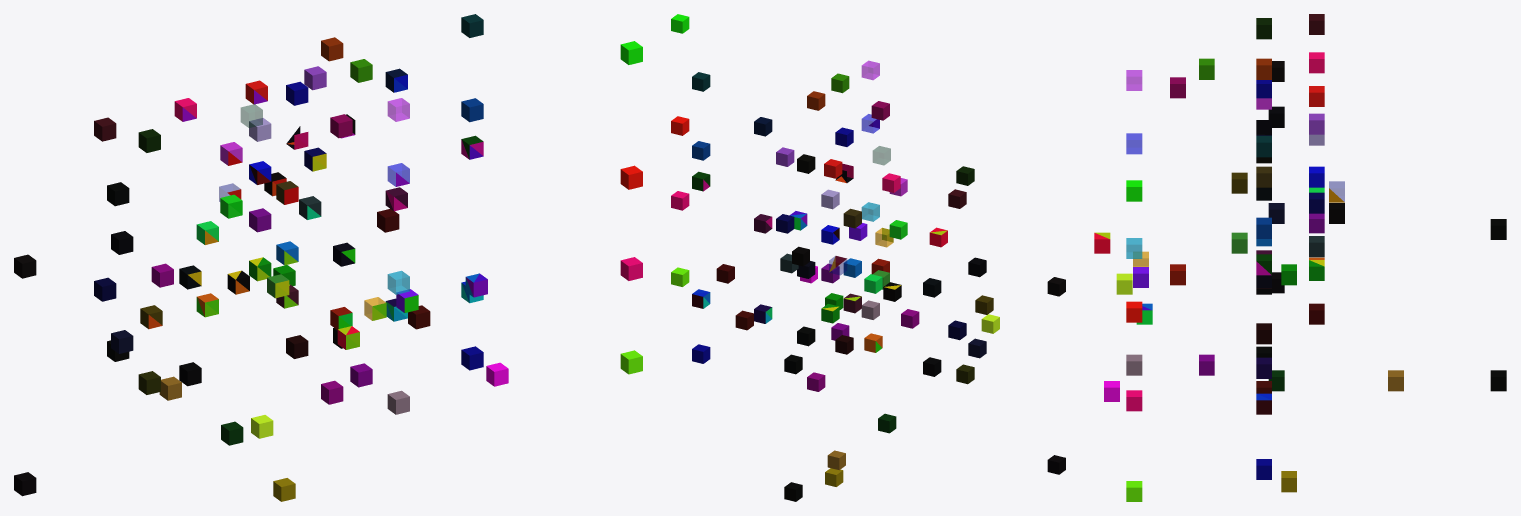
File: testcubemodel6.obj
3 views of the same model, side by side, from view 1: azimuth 30°, elevation 25°; view 2: azimuth 150°, elevation 25°; view 3: azimuth 270°, elevation 25° (orthographic). The views are drawn at different scales.
Size of the model in its own units: 7737 by 6164 by 5198.
Materials: 123 (1 with a texture image).
